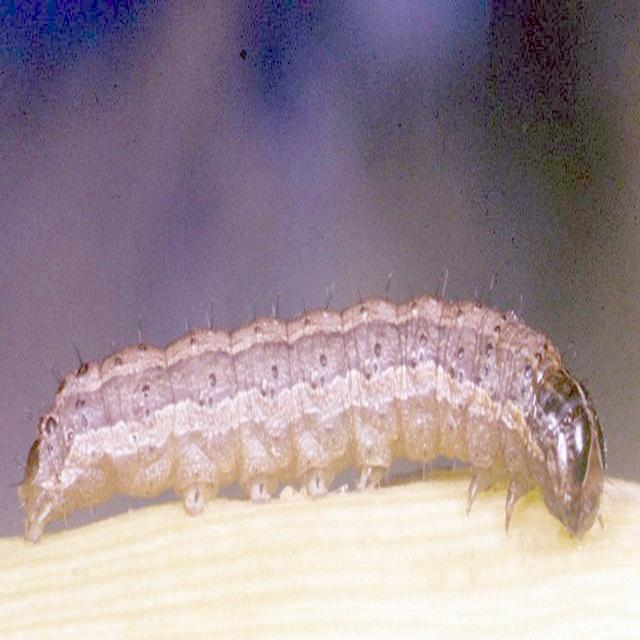gusano_cogollero: (16, 270, 608, 548)
